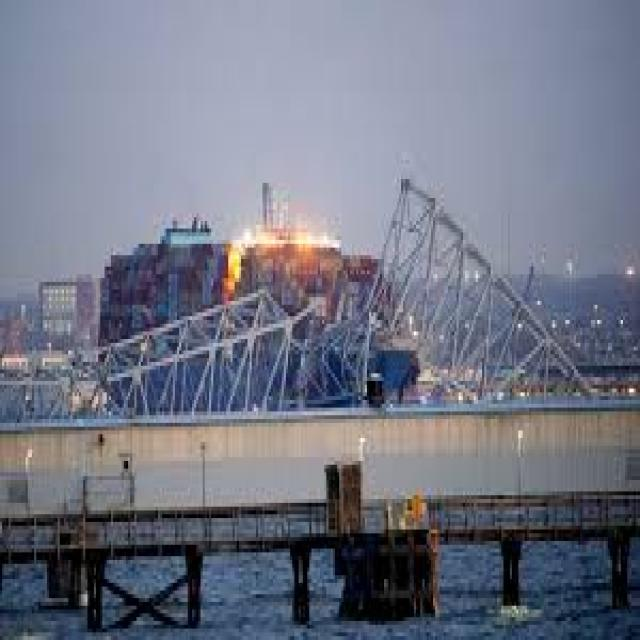bridge collapse: (162, 95, 570, 537)
